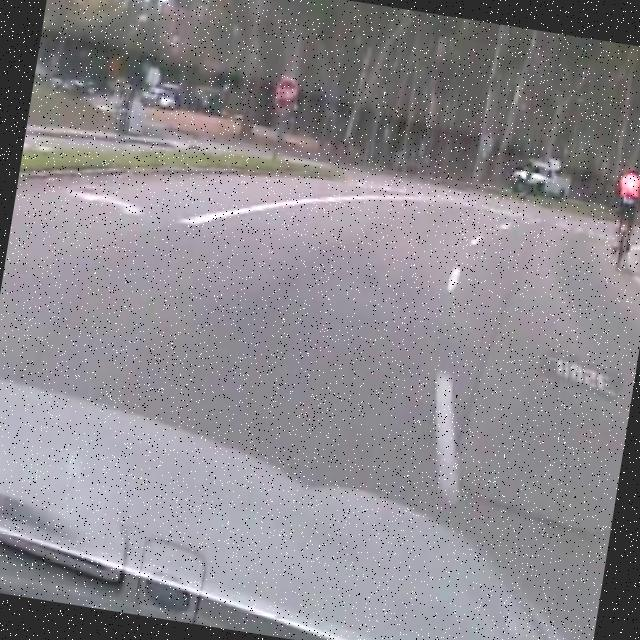Stop: (270, 74, 302, 115)
